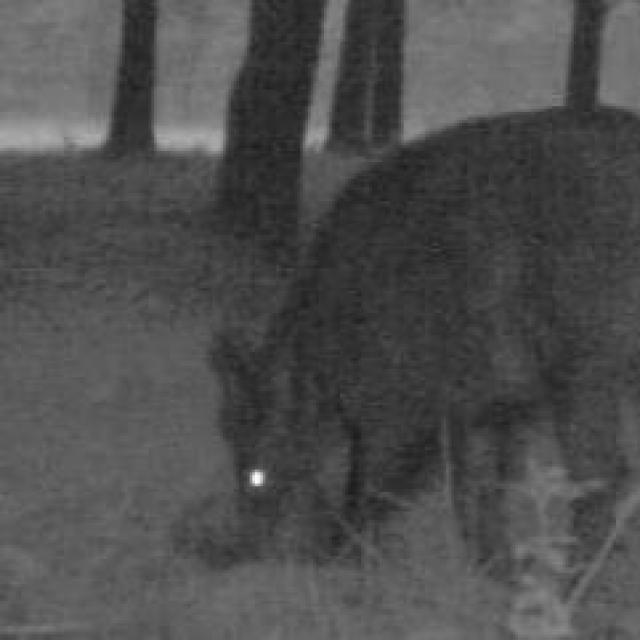pig: (161, 80, 640, 589)
